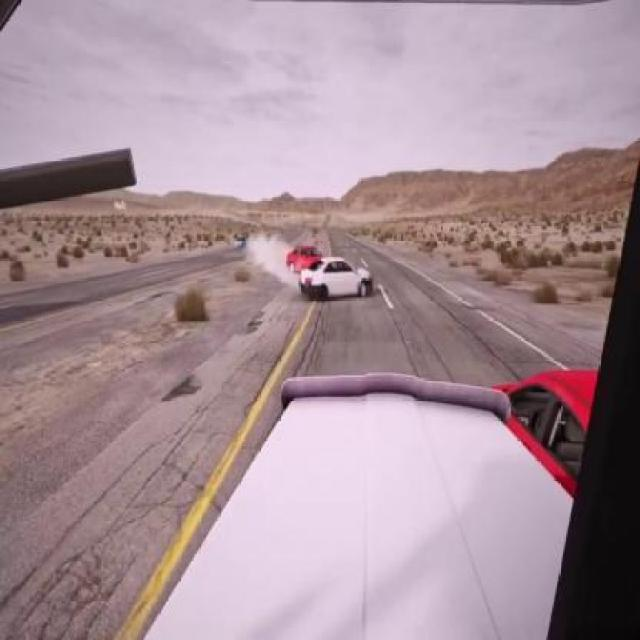accident: (281, 237, 374, 306)
